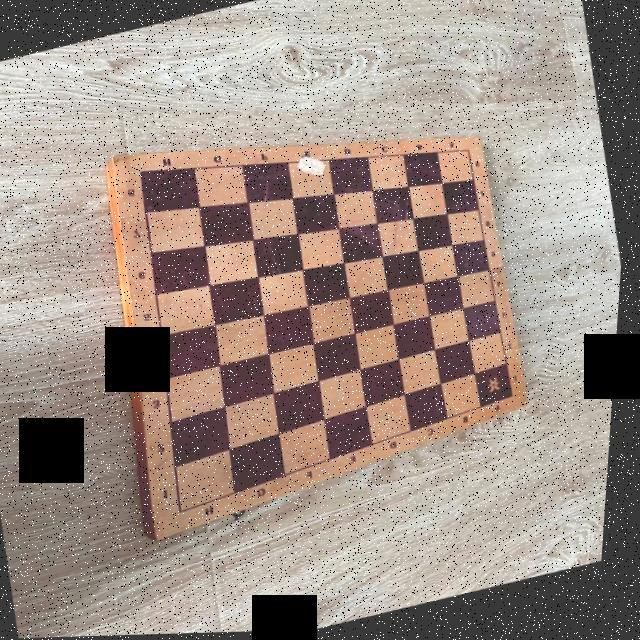chess-table-corners: (136, 165, 150, 177), (180, 506, 194, 517), (464, 147, 478, 157), (512, 393, 521, 402)
